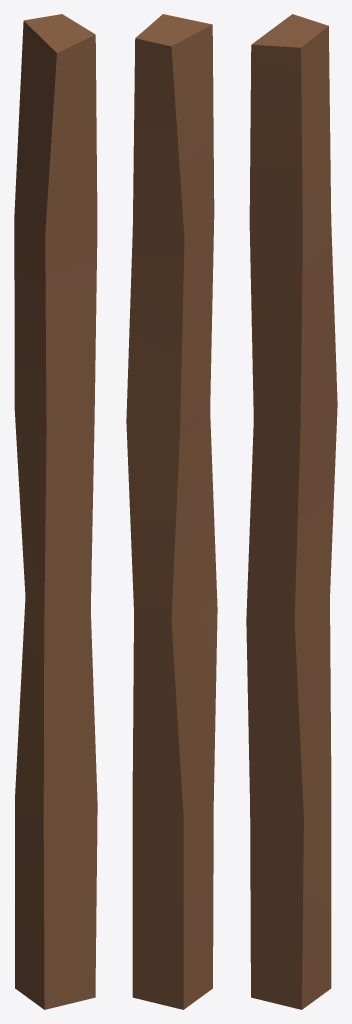
Rendered from WoodColumn4.fbx.
3 renders of one model, left to right at view 1: azimuth 30°, elevation 25°; view 2: azimuth 150°, elevation 25°; view 3: azimuth 330°, elevation 25°, orthographic.
Visible parts, largest first — view 1: WoodColumn4; view 2: WoodColumn4; view 3: WoodColumn4.
Boxes of the visible parts, x1,y1,x2,y2 form: WoodColumn4: (14, 14, 97, 1009); WoodColumn4: (126, 14, 217, 1009); WoodColumn4: (246, 14, 337, 1009).
Bounding box in the file's own units: 12.08 × 200 × 15.33.
